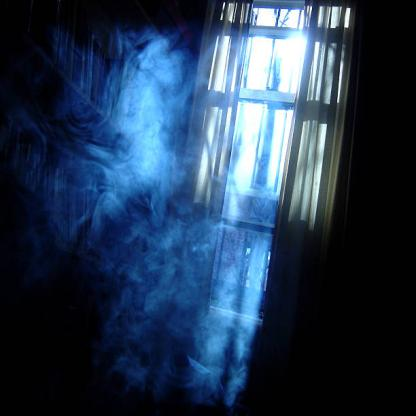smoke: (41, 7, 284, 399)
